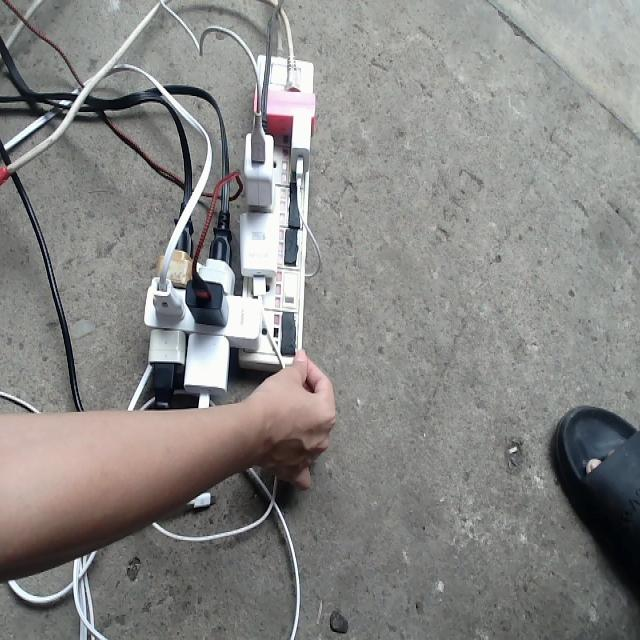-: (140, 49, 315, 392)
